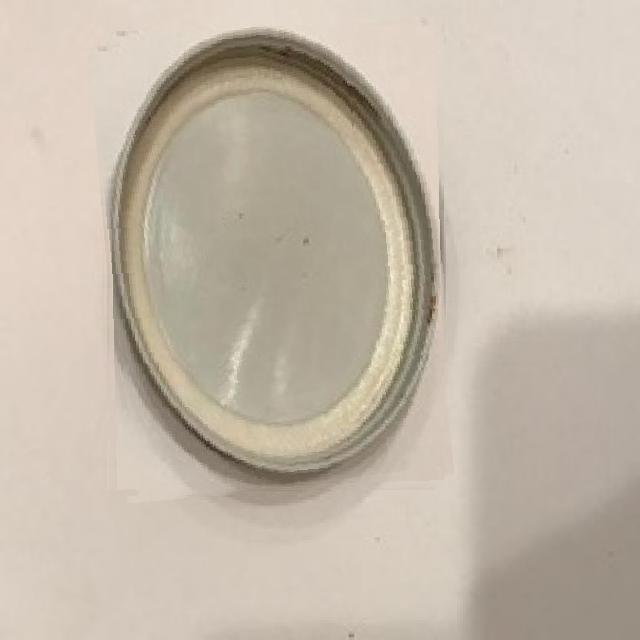recyclable: (98, 26, 444, 497)
